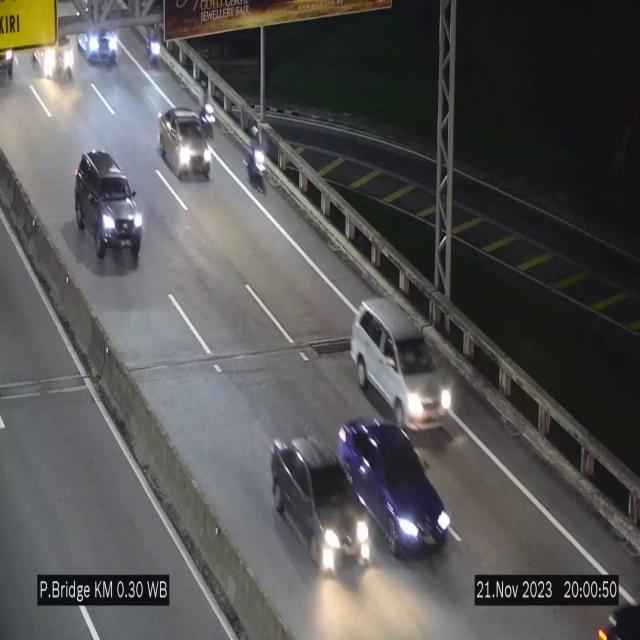Car: (272, 428, 374, 592), (335, 418, 451, 556), (352, 300, 452, 431), (75, 150, 144, 267), (157, 111, 211, 189), (30, 36, 78, 88), (78, 23, 130, 70)
Motorcycle: (249, 143, 269, 207), (145, 26, 167, 68), (204, 95, 220, 147)
